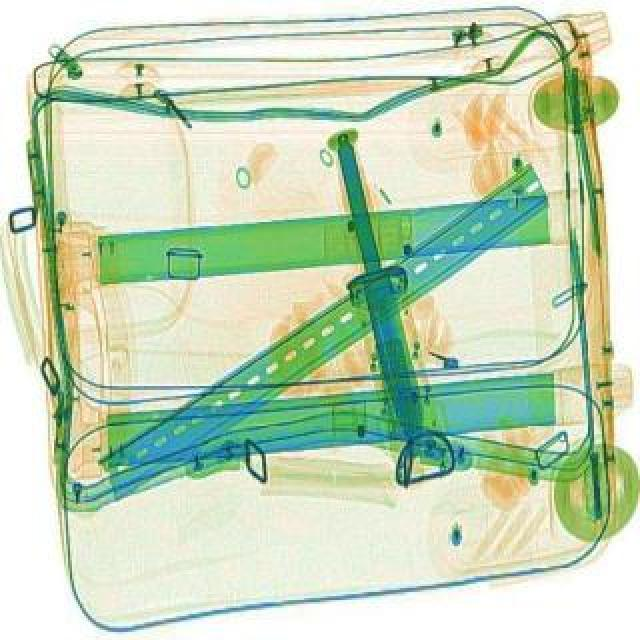knife: (318, 140, 448, 458)
